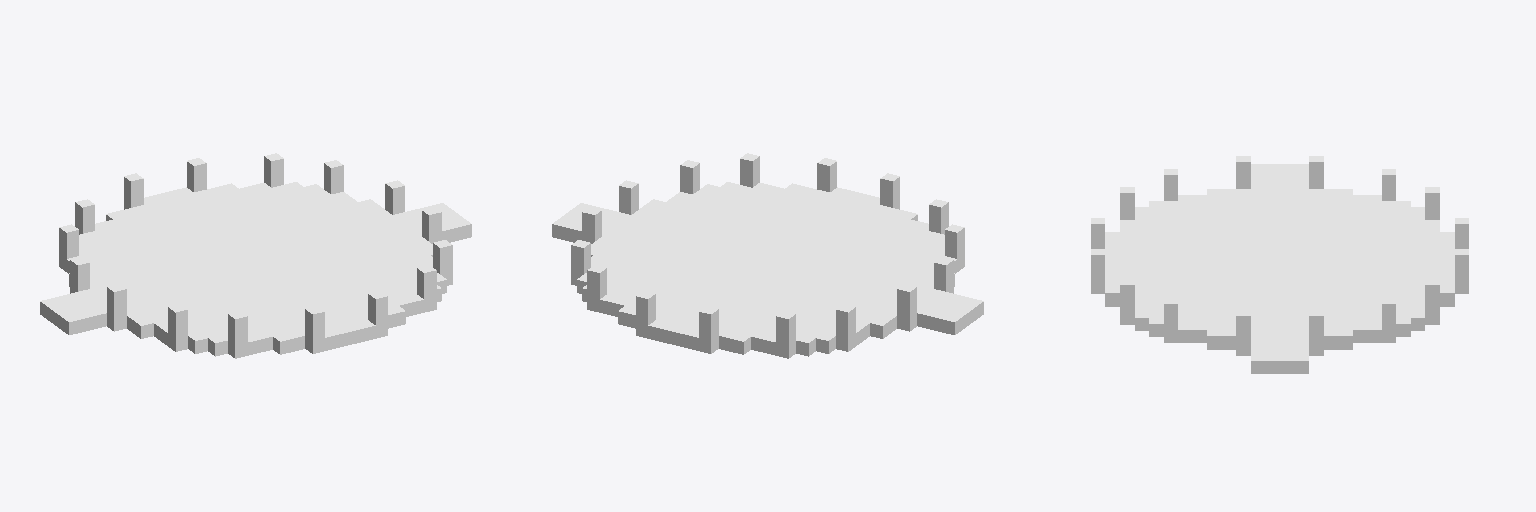
File: direct6.obj
3 views of the same model, side by side, from view 1: azimuth 30°, elevation 25°; view 2: azimuth 150°, elevation 25°; view 3: azimuth 270°, elevation 25° (orthographic).
Visible parts, largest first — view 1: object 1; view 2: object 1; view 3: object 1.
Part boxes in pixels (x1,y1,x2,y2): object 1: (40, 153, 471, 358); object 1: (552, 153, 983, 358); object 1: (1091, 156, 1468, 373).
Bounding box in the file's own units: 3.2 × 0.3 × 2.6.